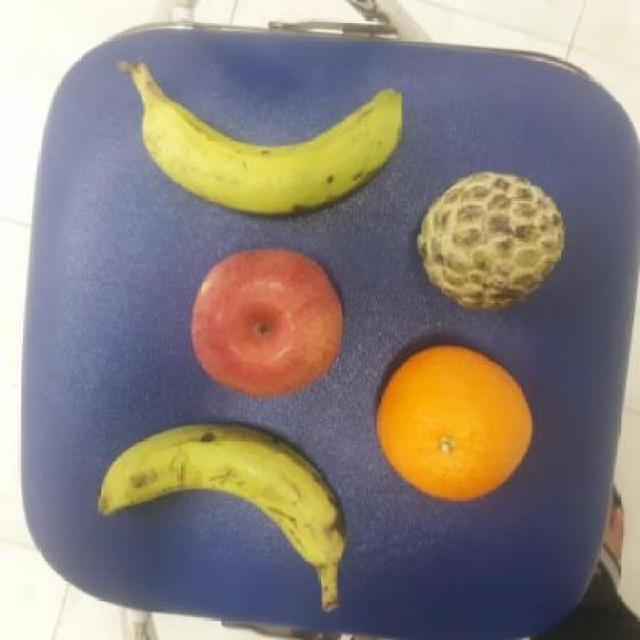apple: (186, 244, 346, 402)
banana: (92, 417, 352, 571), (132, 90, 406, 218)
oren: (371, 342, 535, 506)
sugar apple: (410, 169, 568, 314)
